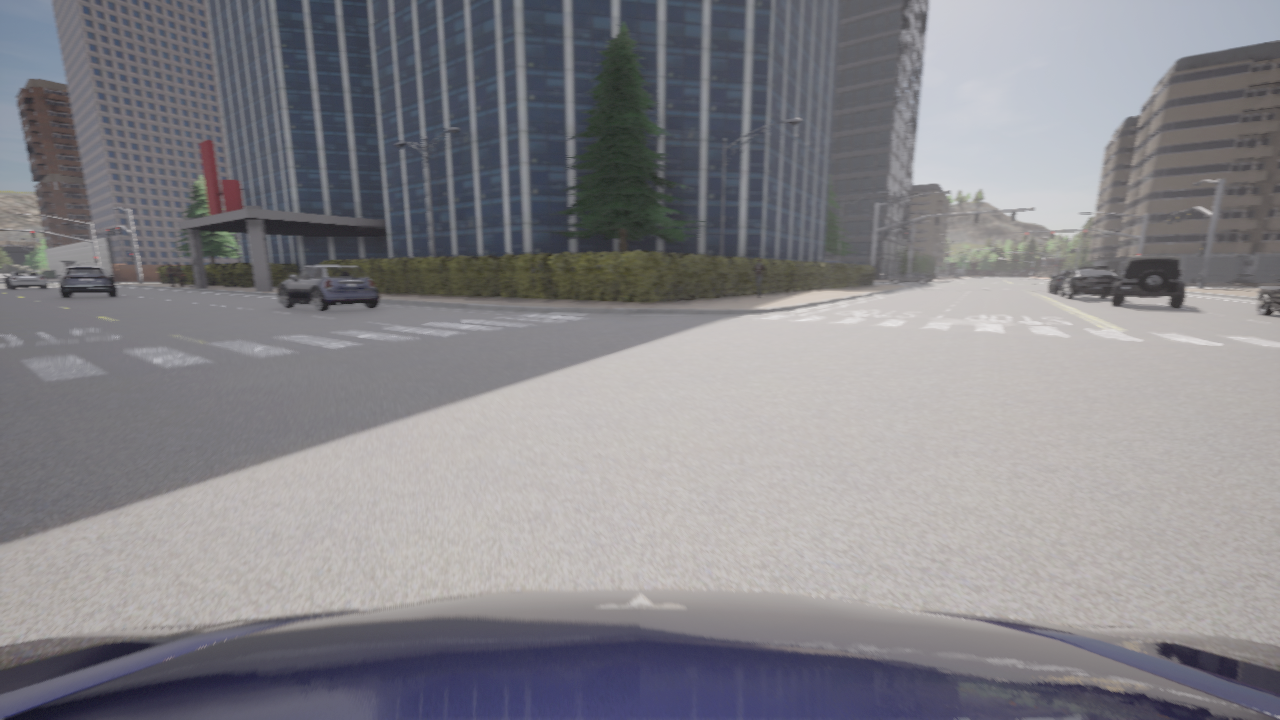cyclist: (0, 588, 1279, 719), (278, 265, 379, 310), (1111, 256, 1184, 307), (1060, 266, 1121, 298), (57, 265, 116, 297), (4, 270, 47, 289), (1255, 286, 1279, 314), (1049, 270, 1074, 293), (889, 272, 934, 284)
pedestrian: (752, 257, 766, 297), (175, 263, 184, 286), (166, 263, 175, 286)
